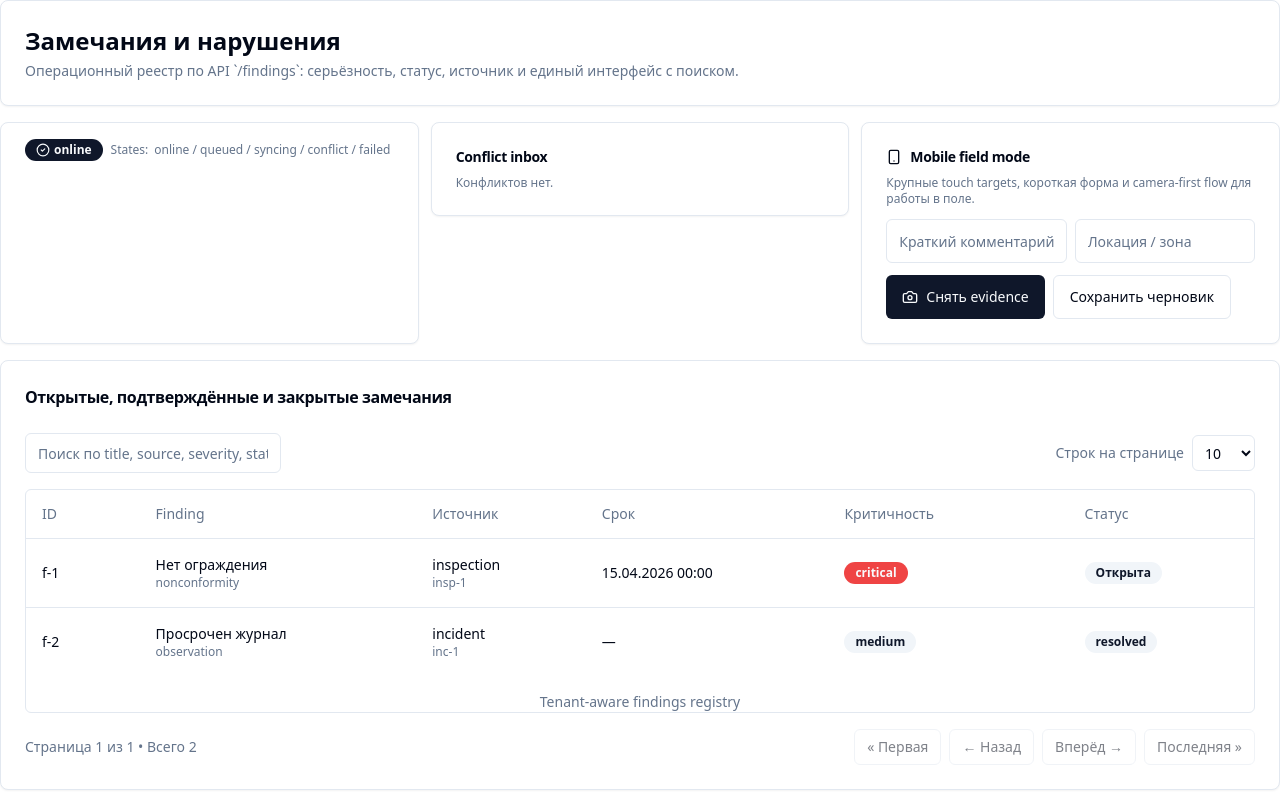
Test case: operational pages converted from static to real data › renders findings from live API instead of static demo rows
Expected: the text "Нет ограждения" is shown, [156,554,268,574]
Step 1. Type "ограждения" into the field with placeholder "Поиск по title, source, severity, status" → [153, 453], box [25,433,281,473]
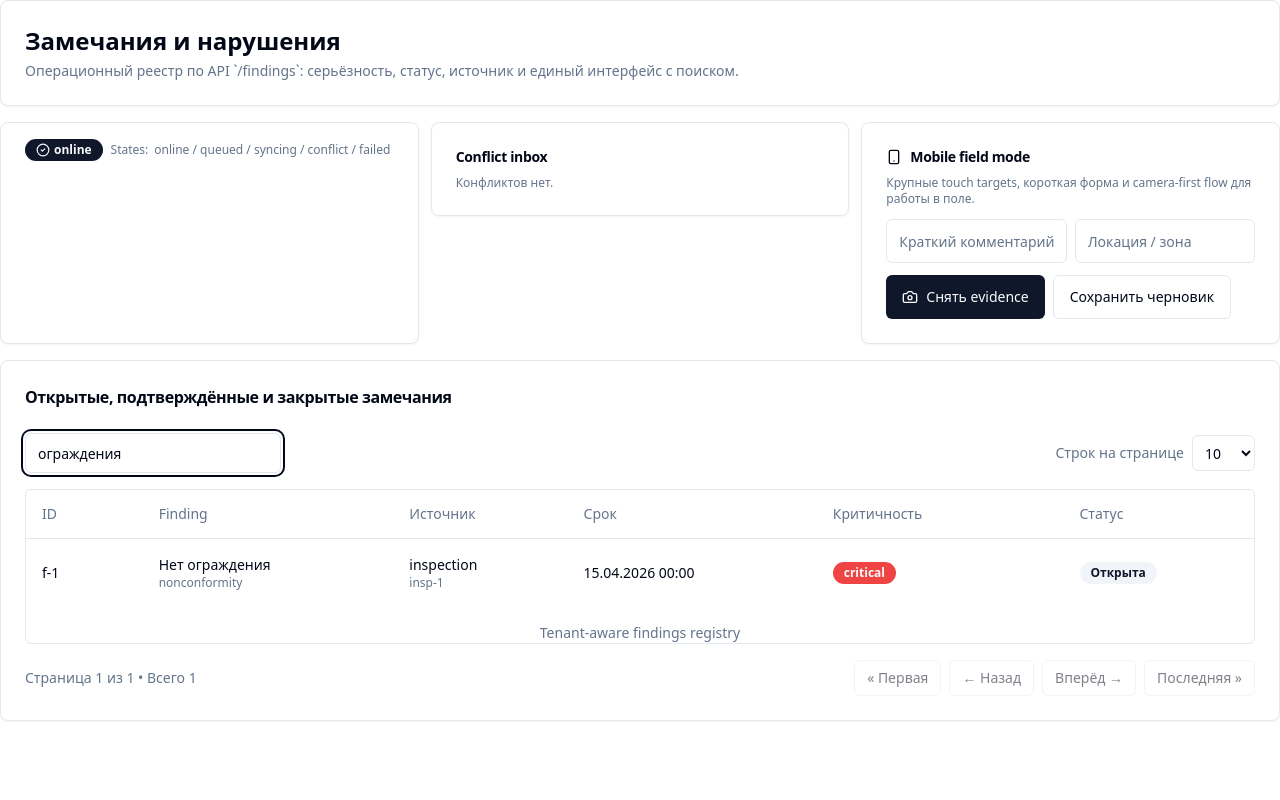
Result: the text "Просрочен журнал" is gone
